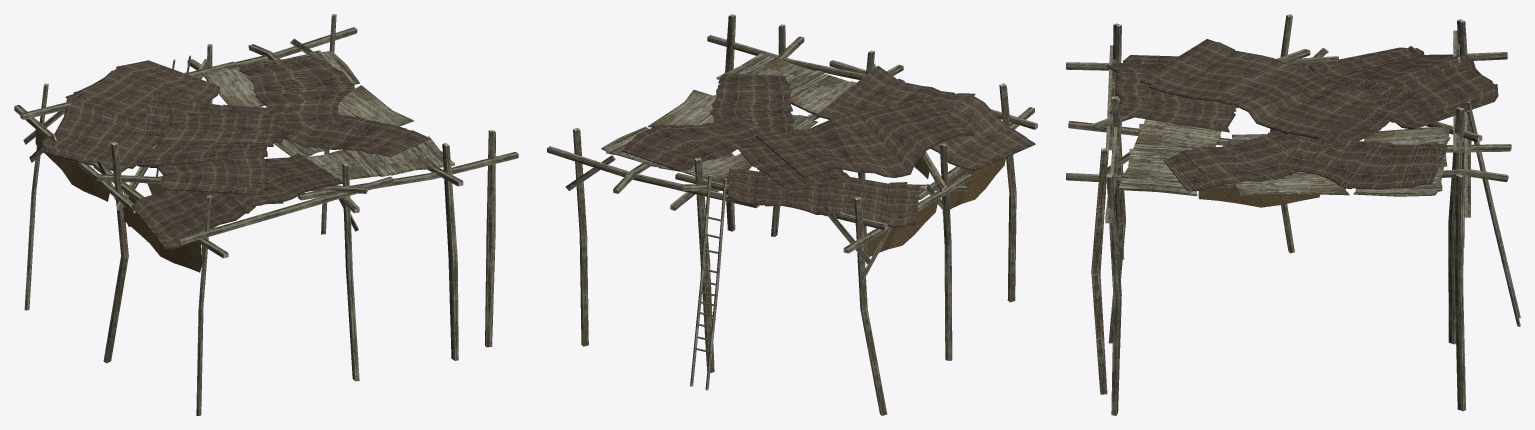
The model's file is TW2_1_HUT_02_2-transformed.glb.
3 renders of one model, left to right at view 1: azimuth 30°, elevation 25°; view 2: azimuth 150°, elevation 25°; view 3: azimuth 270°, elevation 25°, orthographic. The views are drawn at different scales.
Parts seen in each view (by area): view 1: default; view 2: default; view 3: default.
Part boxes in pixels (x1,y1,x2,y2): default: (14, 14, 518, 415); default: (547, 14, 1037, 415); default: (1066, 14, 1520, 415).
Size of the model in its own units: 14.54 by 8.81 by 15.1.
4 materials, 4 textured.
